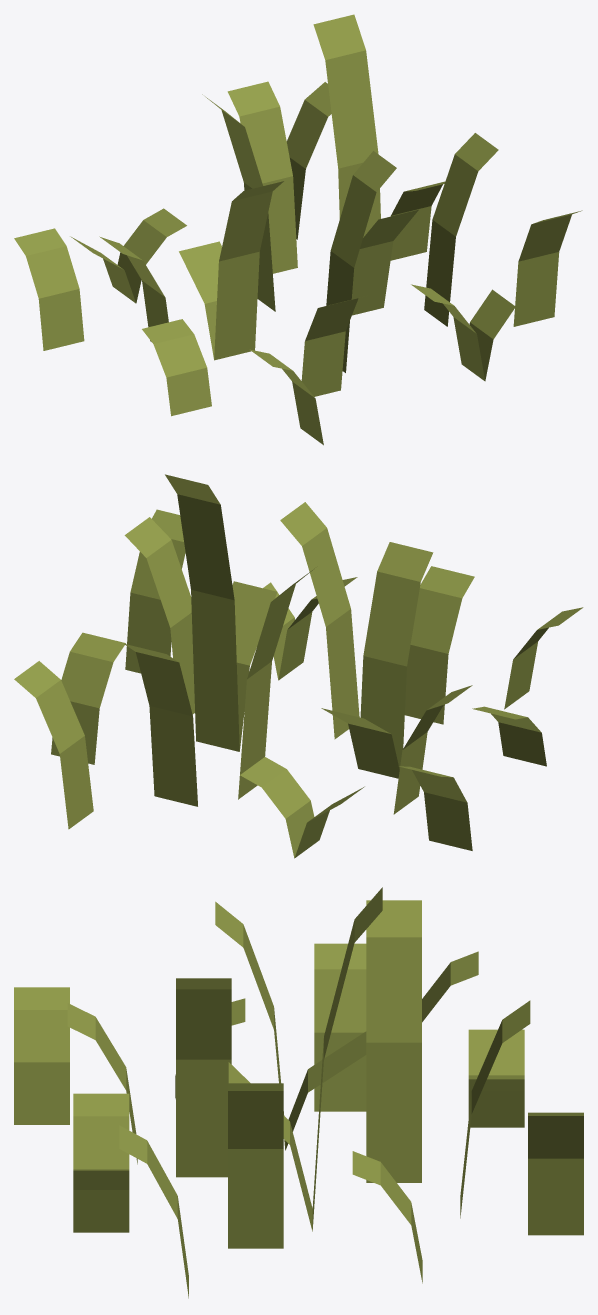
The model's file is herbe-1.glb.
The picture shows the model from 3 angles, top to bottom: view 1: azimuth 30°, elevation 25°; view 2: azimuth 150°, elevation 25°; view 3: azimuth 270°, elevation 25°; orthographic projection. The views are drawn at different scales.
Visible parts, largest first — view 1: grass_large; view 2: grass_large; view 3: grass_large.
Boxes of the visible parts, bbox=[...] form: grass_large: bbox=[14, 14, 582, 445]; grass_large: bbox=[14, 474, 583, 858]; grass_large: bbox=[14, 887, 583, 1298].
Size of the model in its own units: 1.13 by 0.7 by 1.12.
